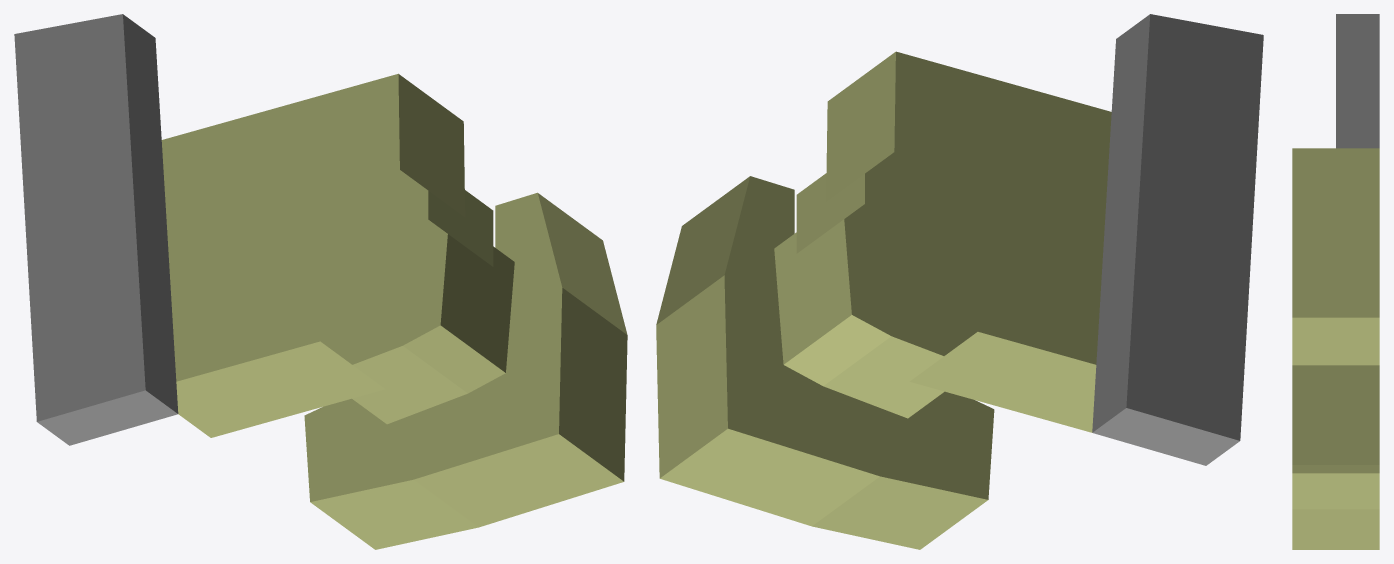
3 renders of one model, left to right at view 1: azimuth 30°, elevation 25°; view 2: azimuth 150°, elevation 25°; view 3: azimuth 270°, elevation 25°, orthographic. The views are drawn at different scales.
Parts seen in each view (by area): view 1: 0_1_1_3_3_0_3_0_2; view 2: 0_1_1_3_3_0_3_0_2; view 3: 0_1_1_3_3_0_3_0_2.
Boxes of the visible parts, left/top/right/bottom form: 0_1_1_3_3_0_3_0_2: left=14, top=14, right=627, bottom=549; 0_1_1_3_3_0_3_0_2: left=656, top=14, right=1263, bottom=549; 0_1_1_3_3_0_3_0_2: left=1292, top=14, right=1379, bottom=549.
Bounding box in the file's own units: 29.06 × 27.52 × 6.
